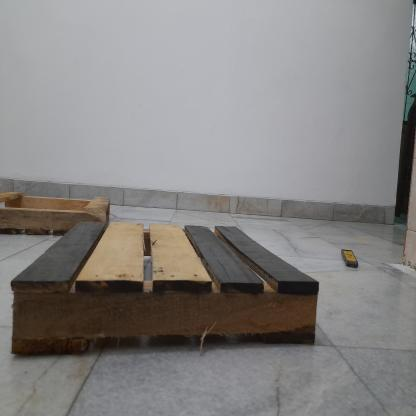Wooden-Pallet: (6, 220, 325, 353)
